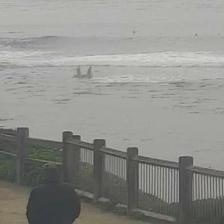surfer: (132, 30, 136, 34), (194, 33, 198, 36), (223, 32, 224, 37)
